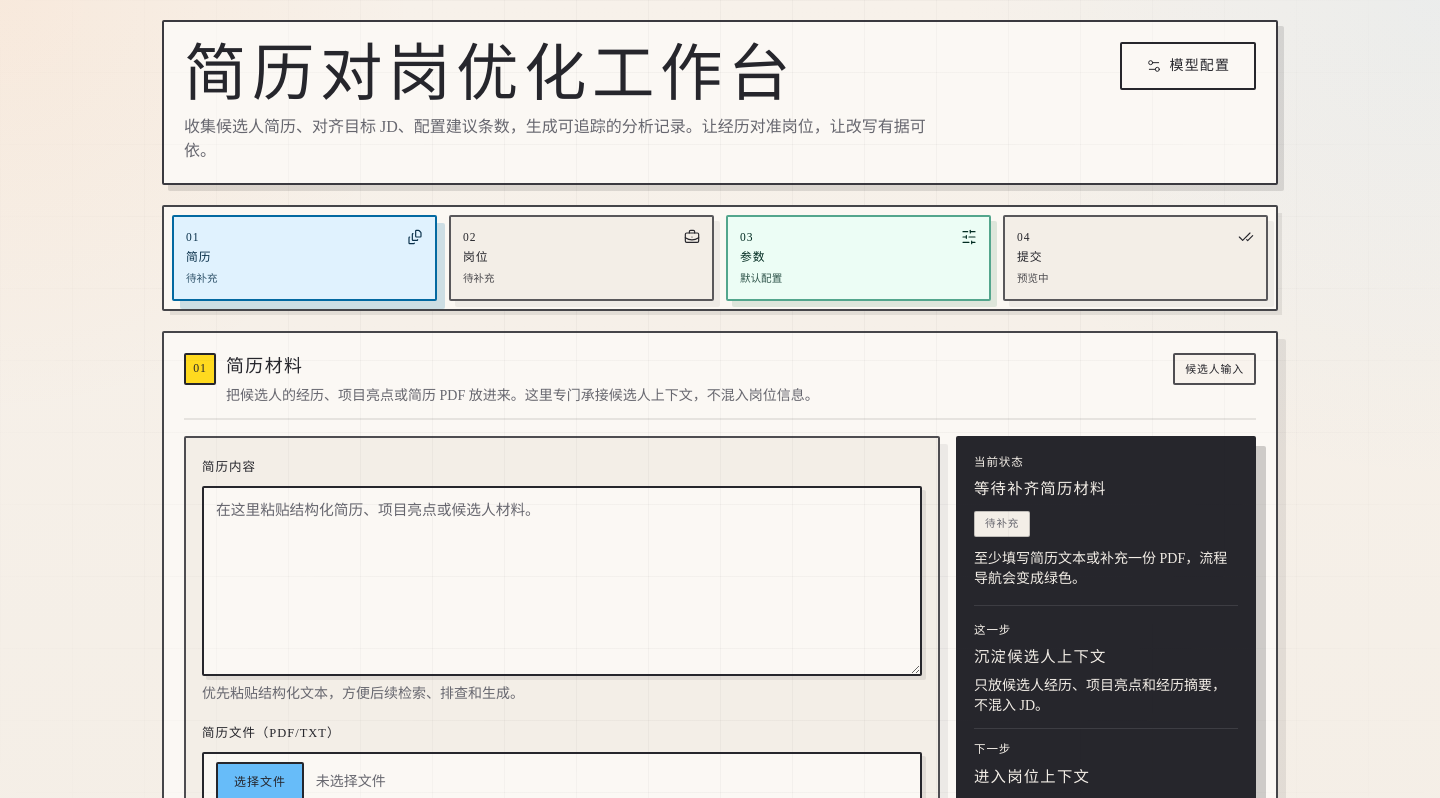
ResumeReviewForm › shows the first step by default and switches panels from the stepper
This screenshot has width=1440, height=798.
Check: the heading "简历对岗优化工作台" is shown, box [184, 39, 796, 108]
Check: the text "收集候选人简历、对齐目标 JD、配置建议条数，生成可追踪的分析记录。让经历对准岗位，让改写有据可依。" is shown, box [184, 115, 952, 163]
Click the button with aria-label "02 岗位上下文".
click(479, 279)  # box [449, 215, 714, 301]
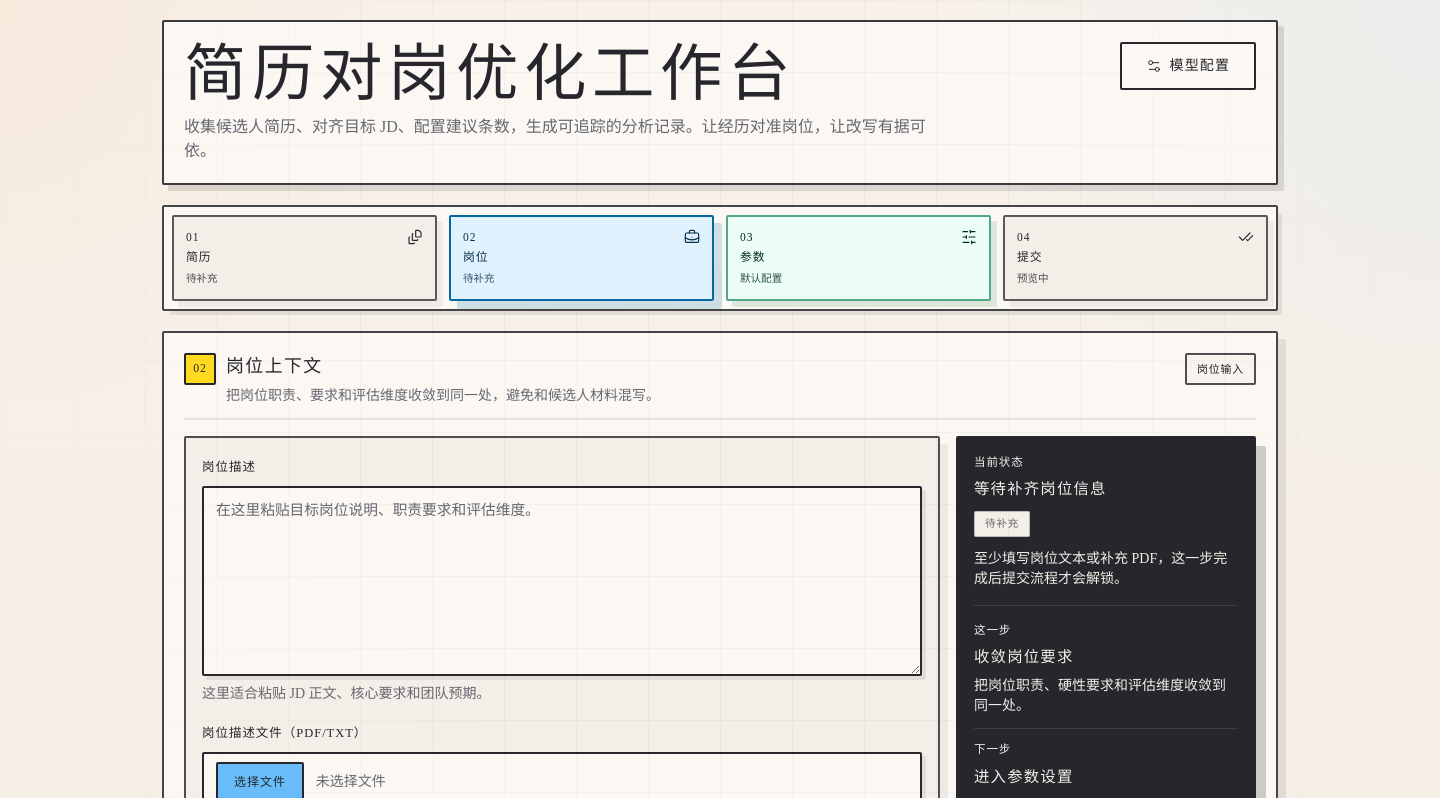
Check: the heading "岗位上下文" is shown, box [226, 356, 323, 376]
